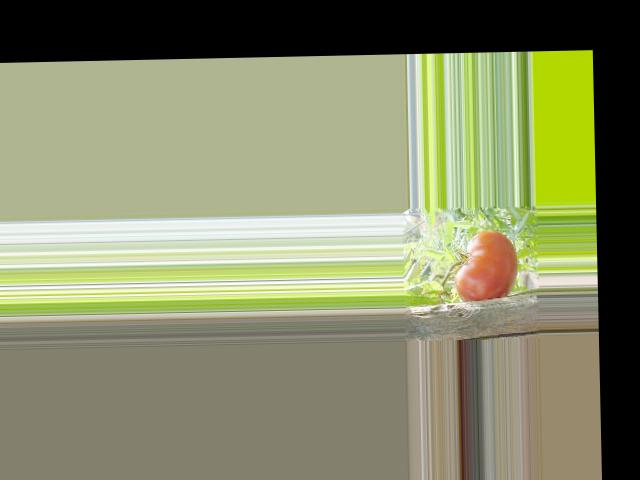tomato: (453, 229, 518, 302)
